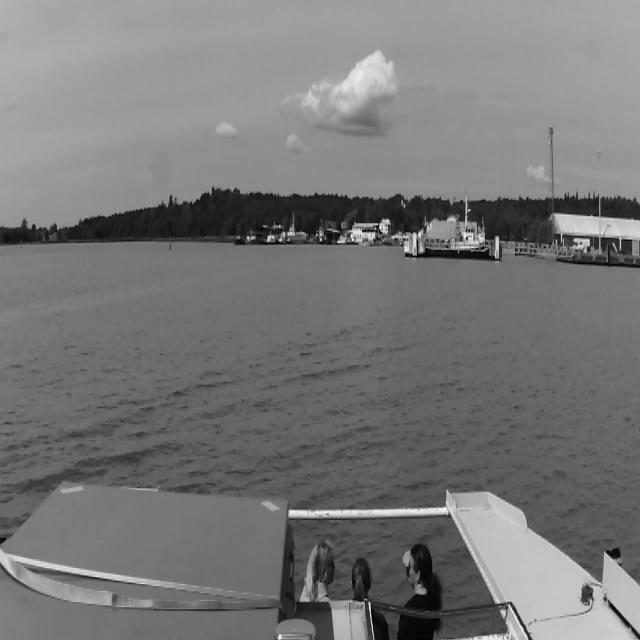buoy: (168, 236, 170, 250)
ship: (278, 227, 308, 245), (260, 234, 276, 244), (234, 236, 244, 246), (245, 236, 257, 244), (278, 233, 286, 243)
